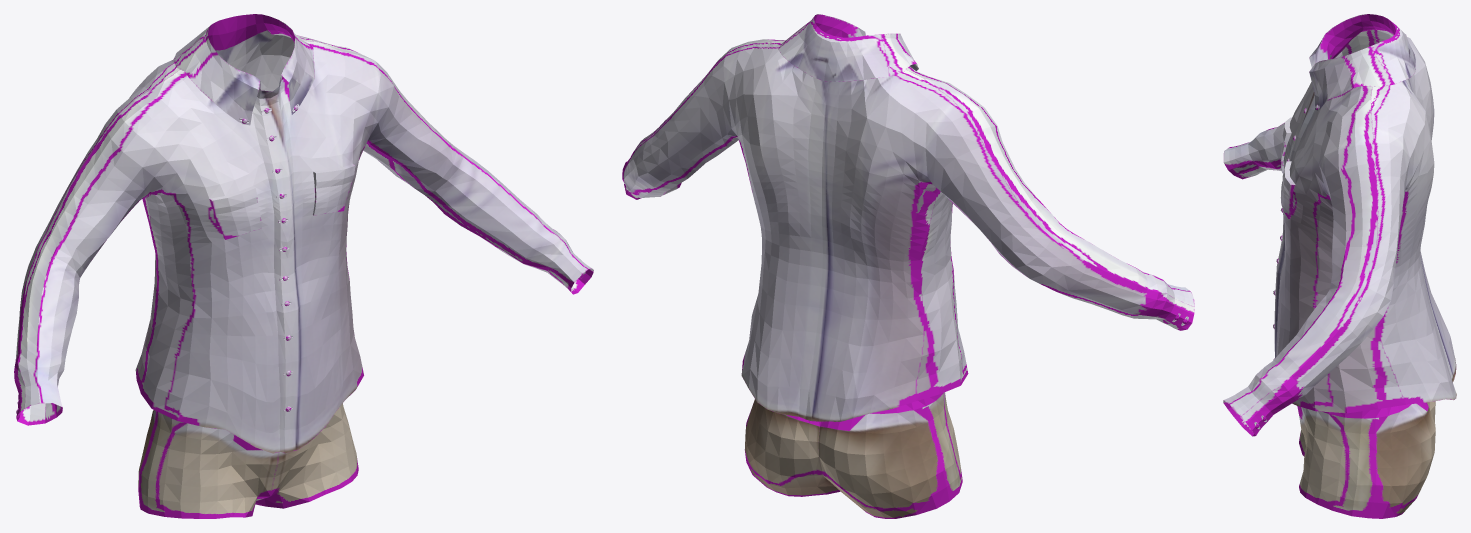
The picture shows the model from 3 angles, left to right: view 1: azimuth 30°, elevation 25°; view 2: azimuth 150°, elevation 25°; view 3: azimuth 270°, elevation 25°; orthographic projection. The views are drawn at different scales.
Bounding box in the file's own units: 1.14 × 0.9024 × 0.4163.
Materials: 1 (1 with a texture image).
